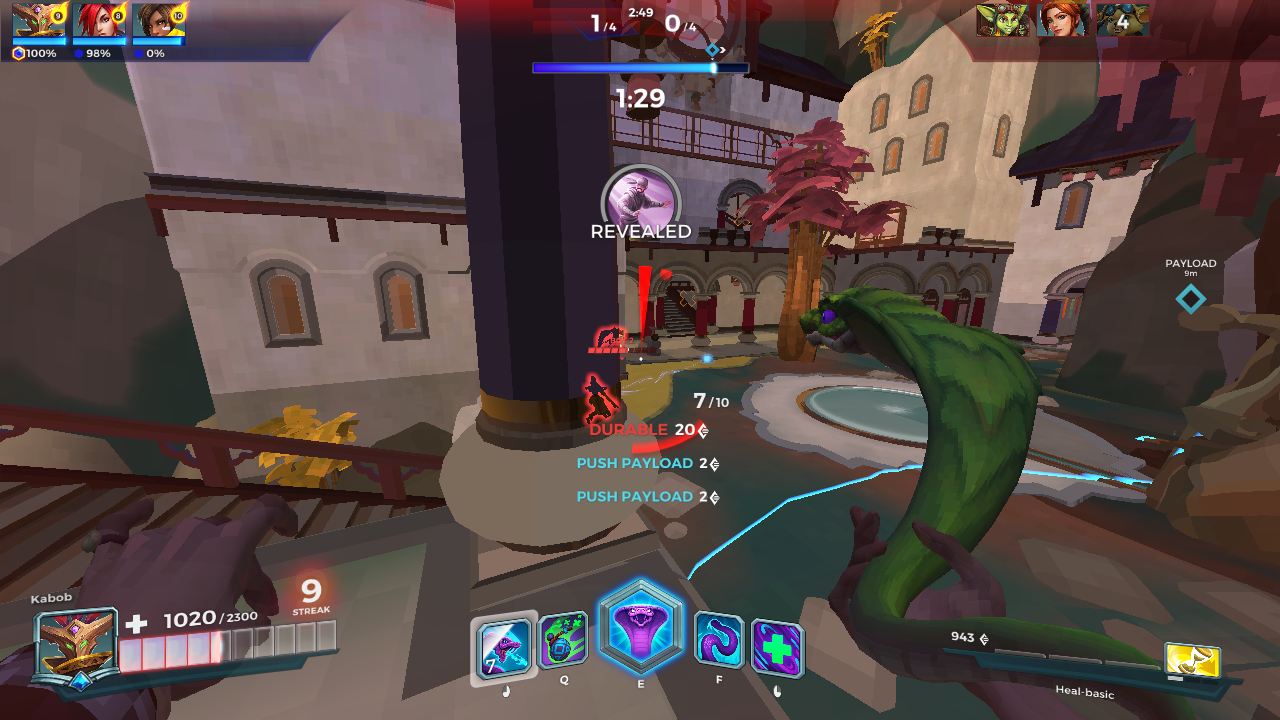model: (575, 369, 622, 427)
